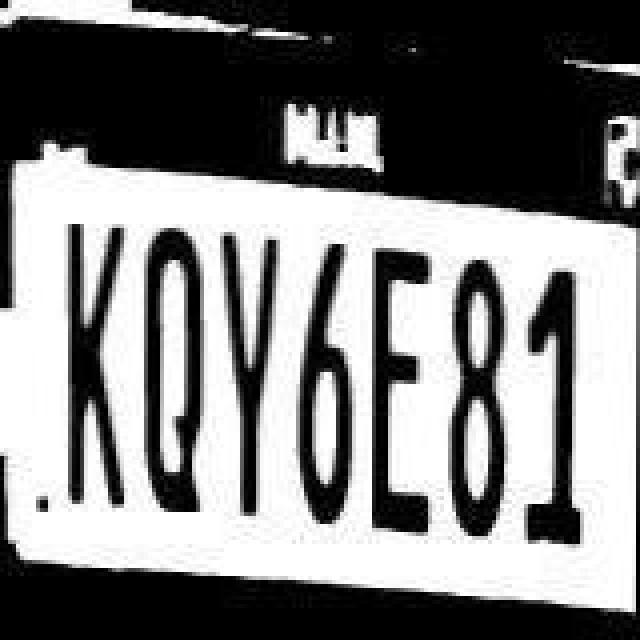1: (516, 268, 584, 548)
6: (288, 240, 356, 528)
8: (444, 256, 512, 536)
E: (370, 248, 442, 536)
K: (54, 208, 126, 520)
Q: (138, 220, 210, 532)
Y: (218, 234, 282, 518)
